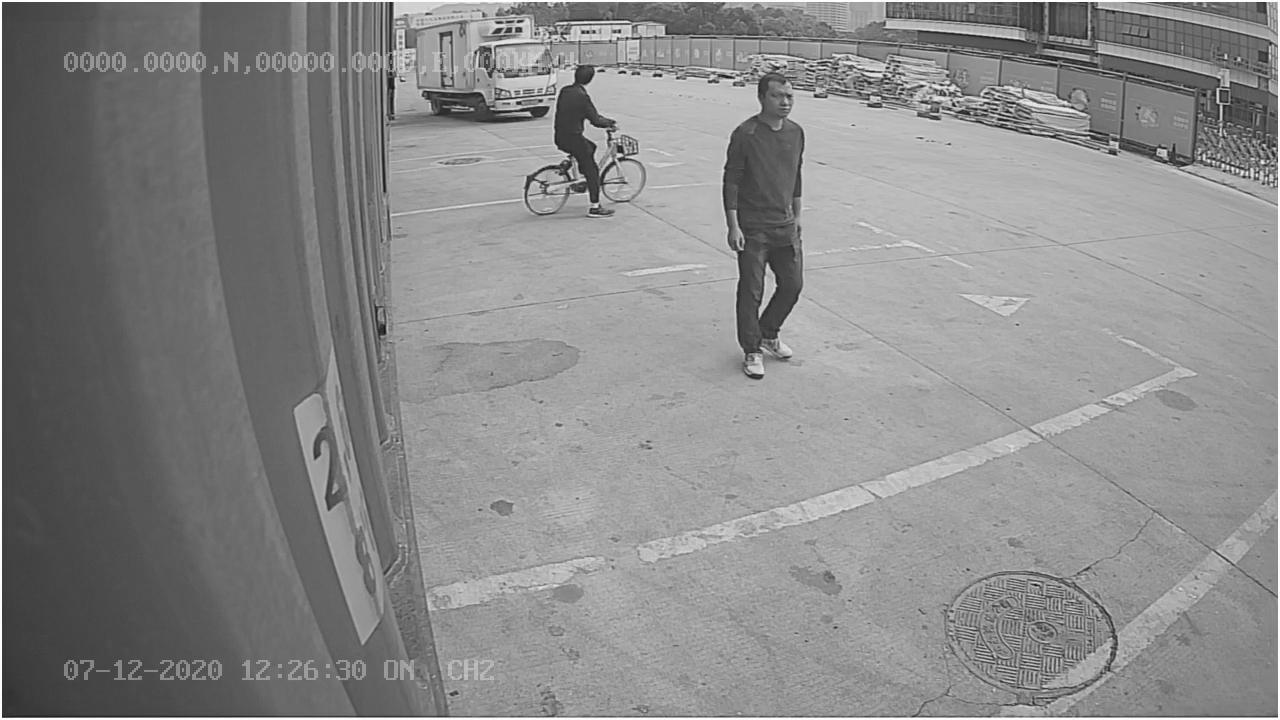person: (714, 69, 811, 380)
